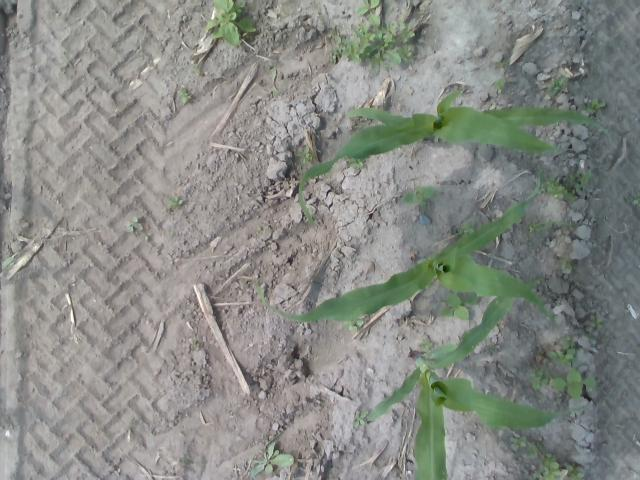Maize: (255, 165, 560, 324), (364, 274, 586, 480), (298, 88, 614, 232)
Weeds: (328, 17, 416, 76), (205, 0, 257, 46), (535, 170, 594, 202), (248, 442, 294, 477), (550, 368, 596, 400), (438, 290, 478, 322), (523, 216, 574, 236), (546, 336, 578, 366), (508, 434, 544, 458), (400, 186, 438, 206), (533, 453, 561, 480), (356, 0, 381, 28), (528, 364, 550, 390), (545, 74, 568, 98), (265, 65, 280, 98), (580, 96, 605, 114), (454, 219, 476, 238), (343, 314, 365, 332), (562, 463, 584, 480), (124, 216, 143, 234), (296, 146, 312, 164), (586, 314, 604, 329), (352, 410, 368, 426), (554, 256, 572, 270), (346, 156, 366, 168), (166, 195, 183, 209), (178, 88, 192, 104), (494, 77, 506, 93), (418, 339, 432, 352), (0, 255, 15, 267), (630, 192, 640, 208), (192, 65, 204, 76), (498, 60, 508, 68), (255, 227, 262, 232)
